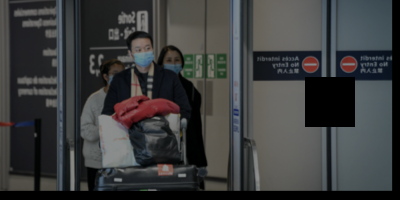with_mask: (131, 43, 154, 67), (160, 54, 183, 74), (106, 67, 122, 86)
